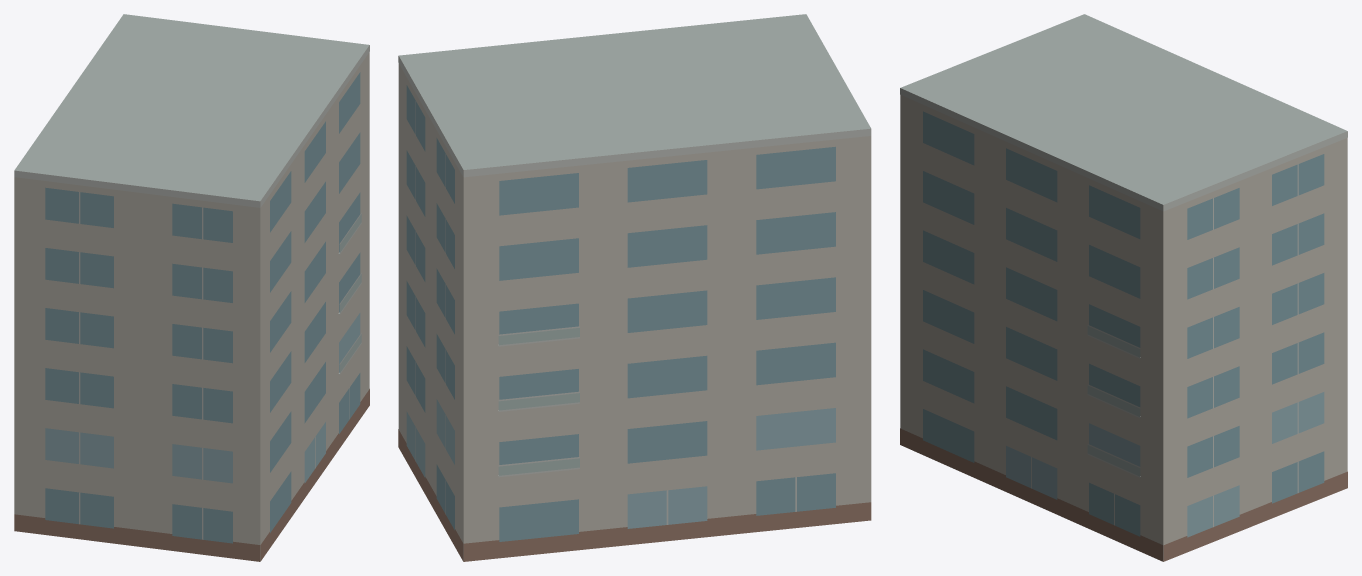
Rendered from survey-upis-32851620.glb.
3 renders of one model, left to right at view 1: azimuth 30°, elevation 25°; view 2: azimuth 150°, elevation 25°; view 3: azimuth 270°, elevation 25°, orthographic. The views are drawn at different scales.
Parts seen in each view (by area): view 1: survey-upis-32851620.tmp; view 2: survey-upis-32851620.tmp; view 3: survey-upis-32851620.tmp.
Boxes of the visible parts, box(x1,y1,x2,y2) form: survey-upis-32851620.tmp: box(14, 14, 369, 561); survey-upis-32851620.tmp: box(398, 14, 871, 561); survey-upis-32851620.tmp: box(900, 14, 1347, 561).
Size of the model in its own units: 15.15 by 13.2 by 15.01.
